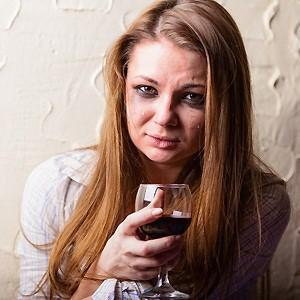Drunk: (128, 45, 208, 161)
